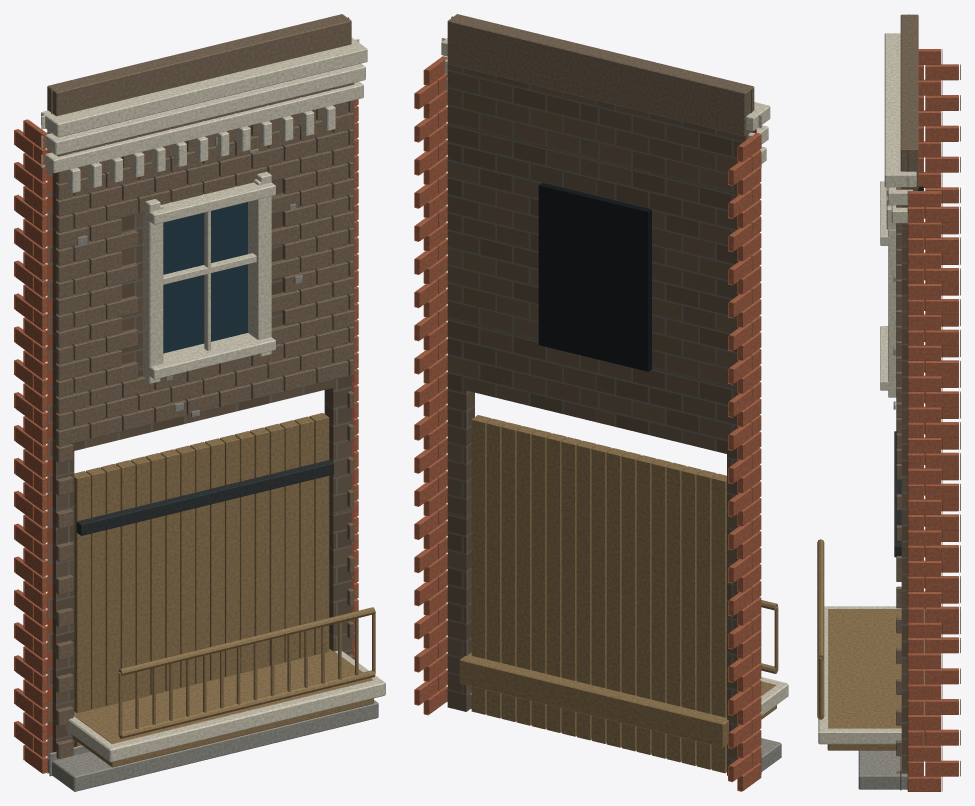
The model's file is WHSE18_lod0.glb.
3 renders of one model, left to right at view 1: azimuth 30°, elevation 25°; view 2: azimuth 150°, elevation 25°; view 3: azimuth 270°, elevation 25°, orthographic. The views are drawn at different scales.
Visible parts, largest first — view 1: WHSE18_FRONT_LOD0; view 2: WHSE18_FRONT_LOD0; view 3: WHSE18_FRONT_LOD0.
Boxes of the visible parts, left/top/right/bottom form: WHSE18_FRONT_LOD0: left=14, top=14, right=385, bottom=791; WHSE18_FRONT_LOD0: left=414, top=14, right=788, bottom=791; WHSE18_FRONT_LOD0: left=817, top=14, right=960, bottom=791.
Bounding box in the file's own units: 3.44 × 7.05 × 1.43.
15 materials, 13 textured.
